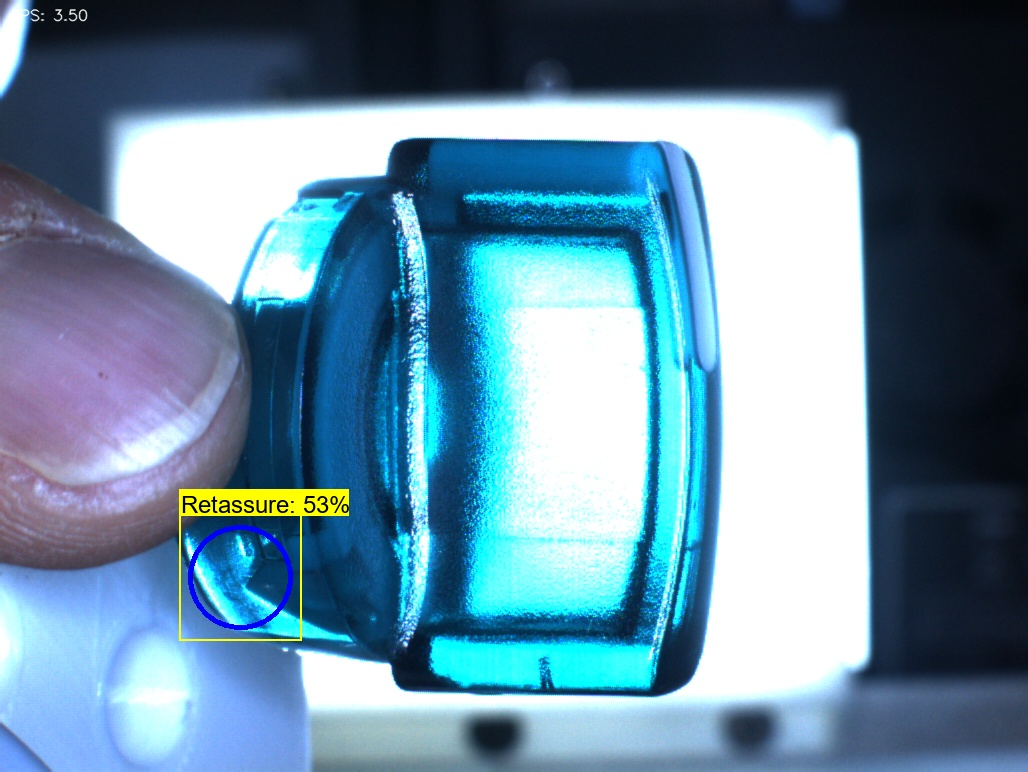Bulle: (499, 629, 592, 718)
